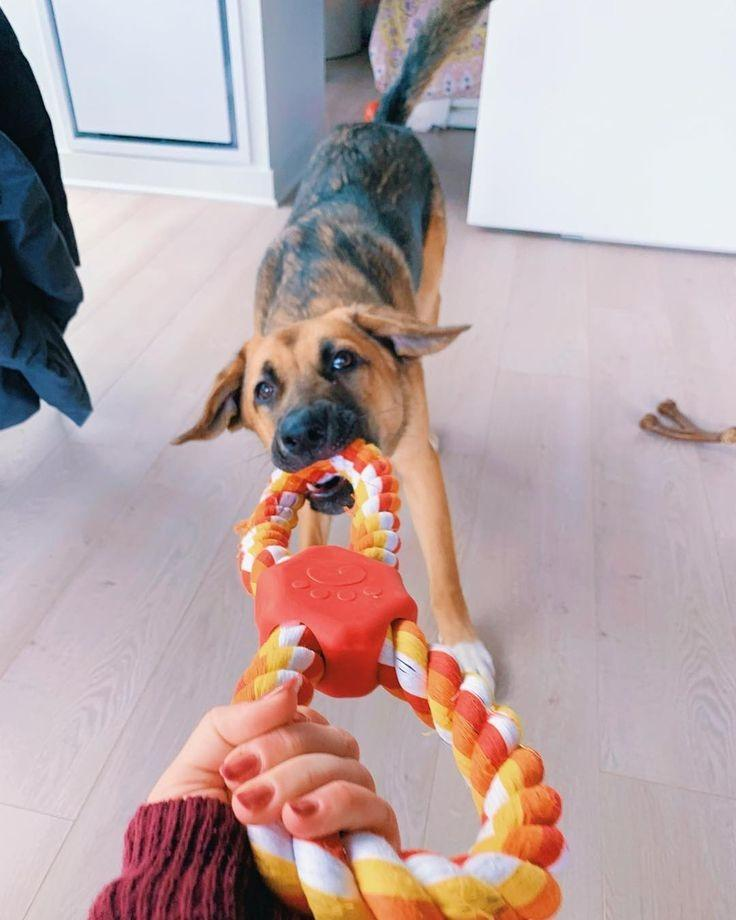adult_dog: (171, 0, 500, 709)
